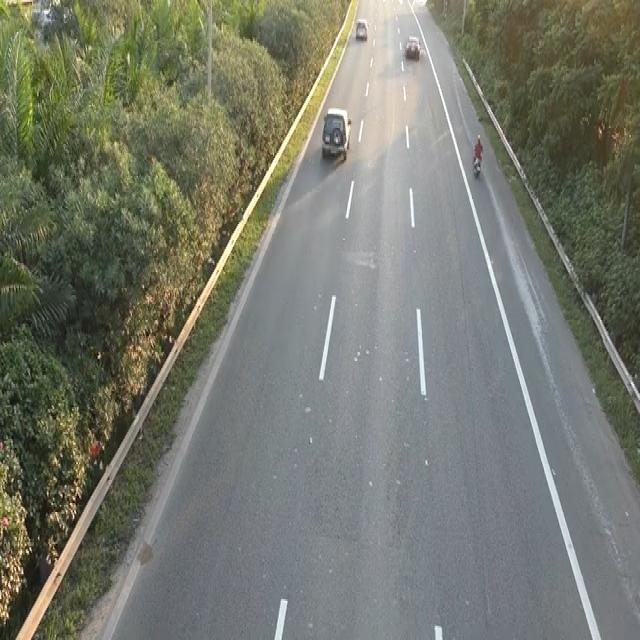car: (319, 103, 354, 167)
minibus: (471, 148, 482, 180)
